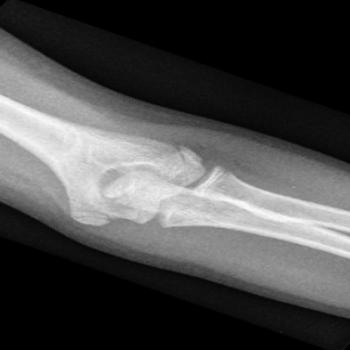Fracture: (167, 137, 210, 169)
